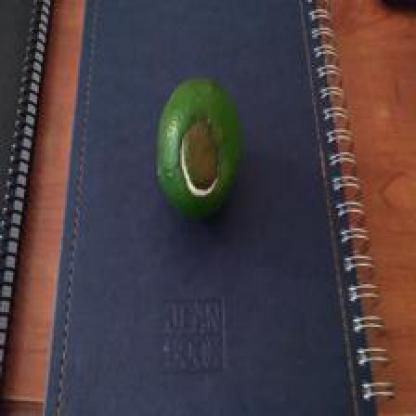orange_rotten: (128, 74, 305, 249)
